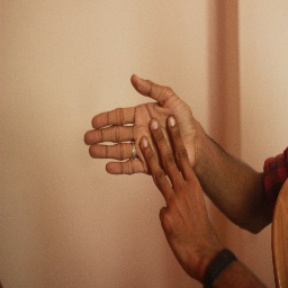M: (81, 72, 207, 225)
